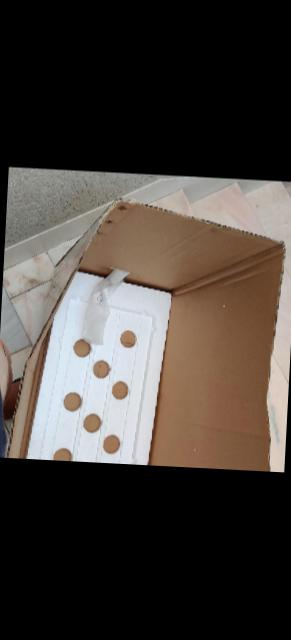cardboard paper: (6, 199, 283, 472)
